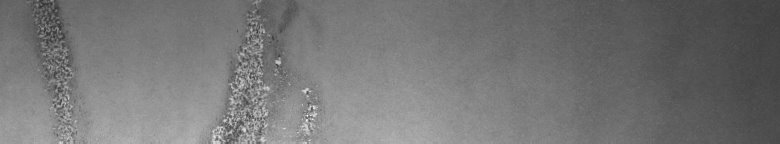hc: (210, 4, 321, 136)
